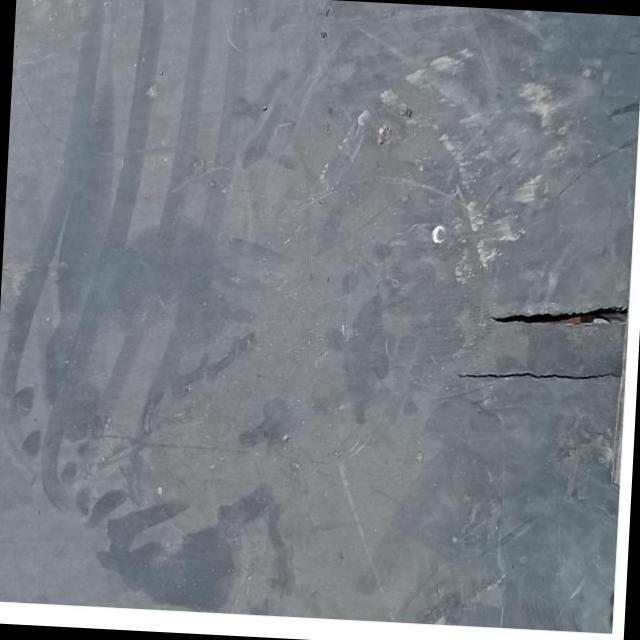Tear: (448, 359, 622, 392), (488, 296, 628, 336)
